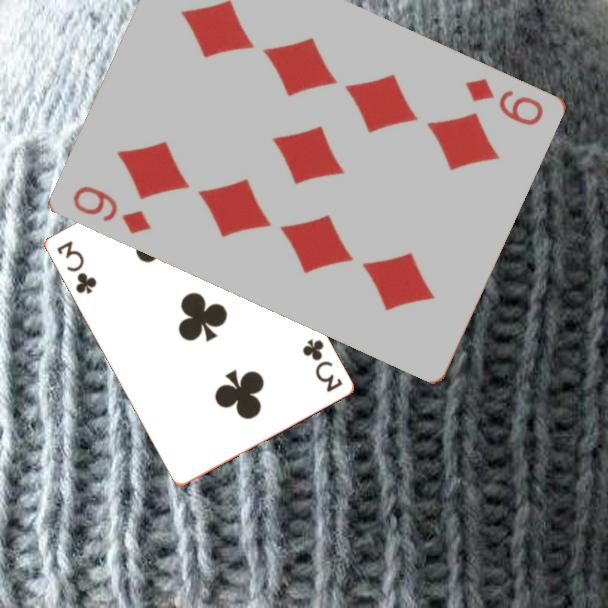c03: (298, 335, 345, 395), (53, 237, 99, 297)
d09: (462, 74, 547, 129), (70, 182, 155, 237)
